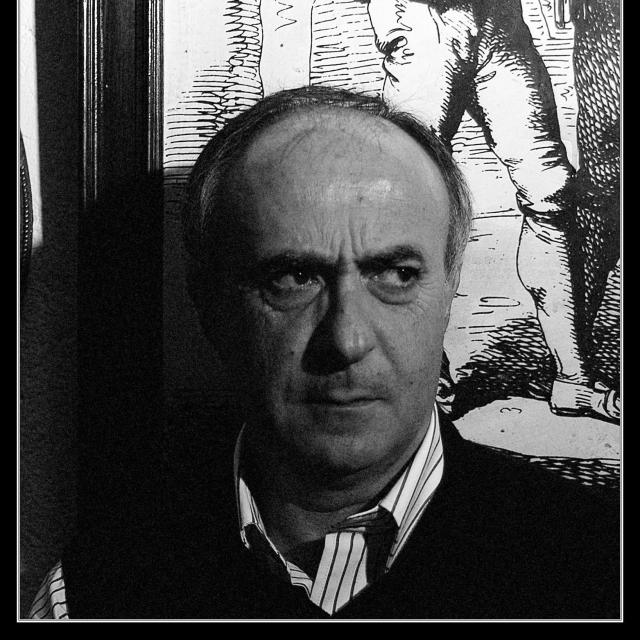no-glass: (271, 260, 426, 290)
